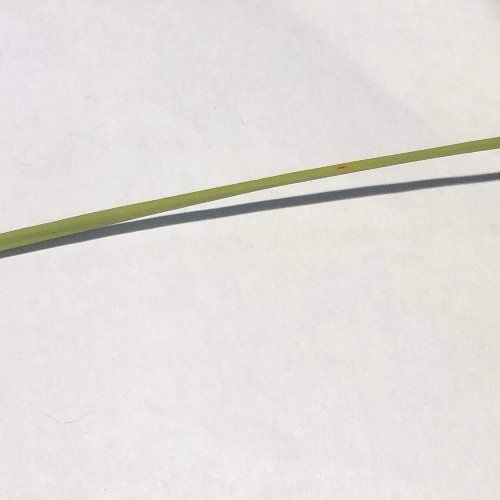Bercak Coklat: (335, 163, 349, 172)
